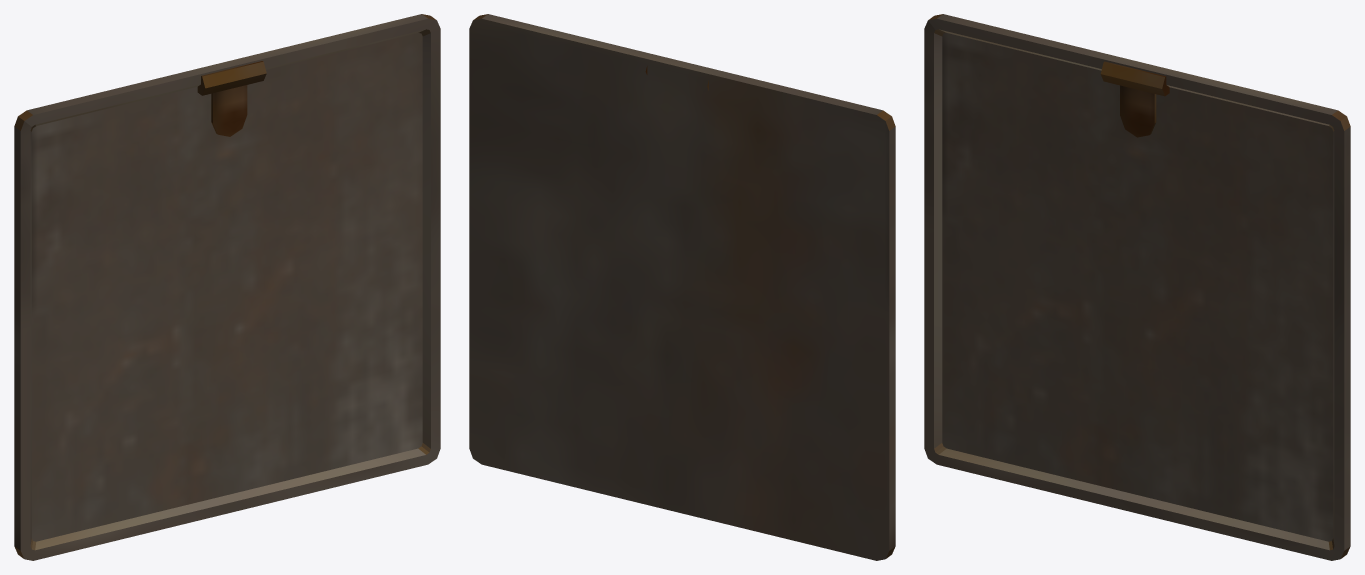
File: SM_ARC_Shop_Panel.fbx
The picture shows the model from 3 angles, left to right: view 1: azimuth 30°, elevation 25°; view 2: azimuth 150°, elevation 25°; view 3: azimuth 330°, elevation 25°; orthographic projection.
Parts seen in each view (by area): view 1: ARC_Shop_Panel; view 2: ARC_Shop_Panel; view 3: ARC_Shop_Panel.
Part boxes in pixels (bbox=[...]): ARC_Shop_Panel: bbox=[14, 14, 440, 560]; ARC_Shop_Panel: bbox=[469, 14, 895, 560]; ARC_Shop_Panel: bbox=[924, 14, 1350, 560].
Bounding box in the file's own units: 34.59 × 35.1 × 1.75.
